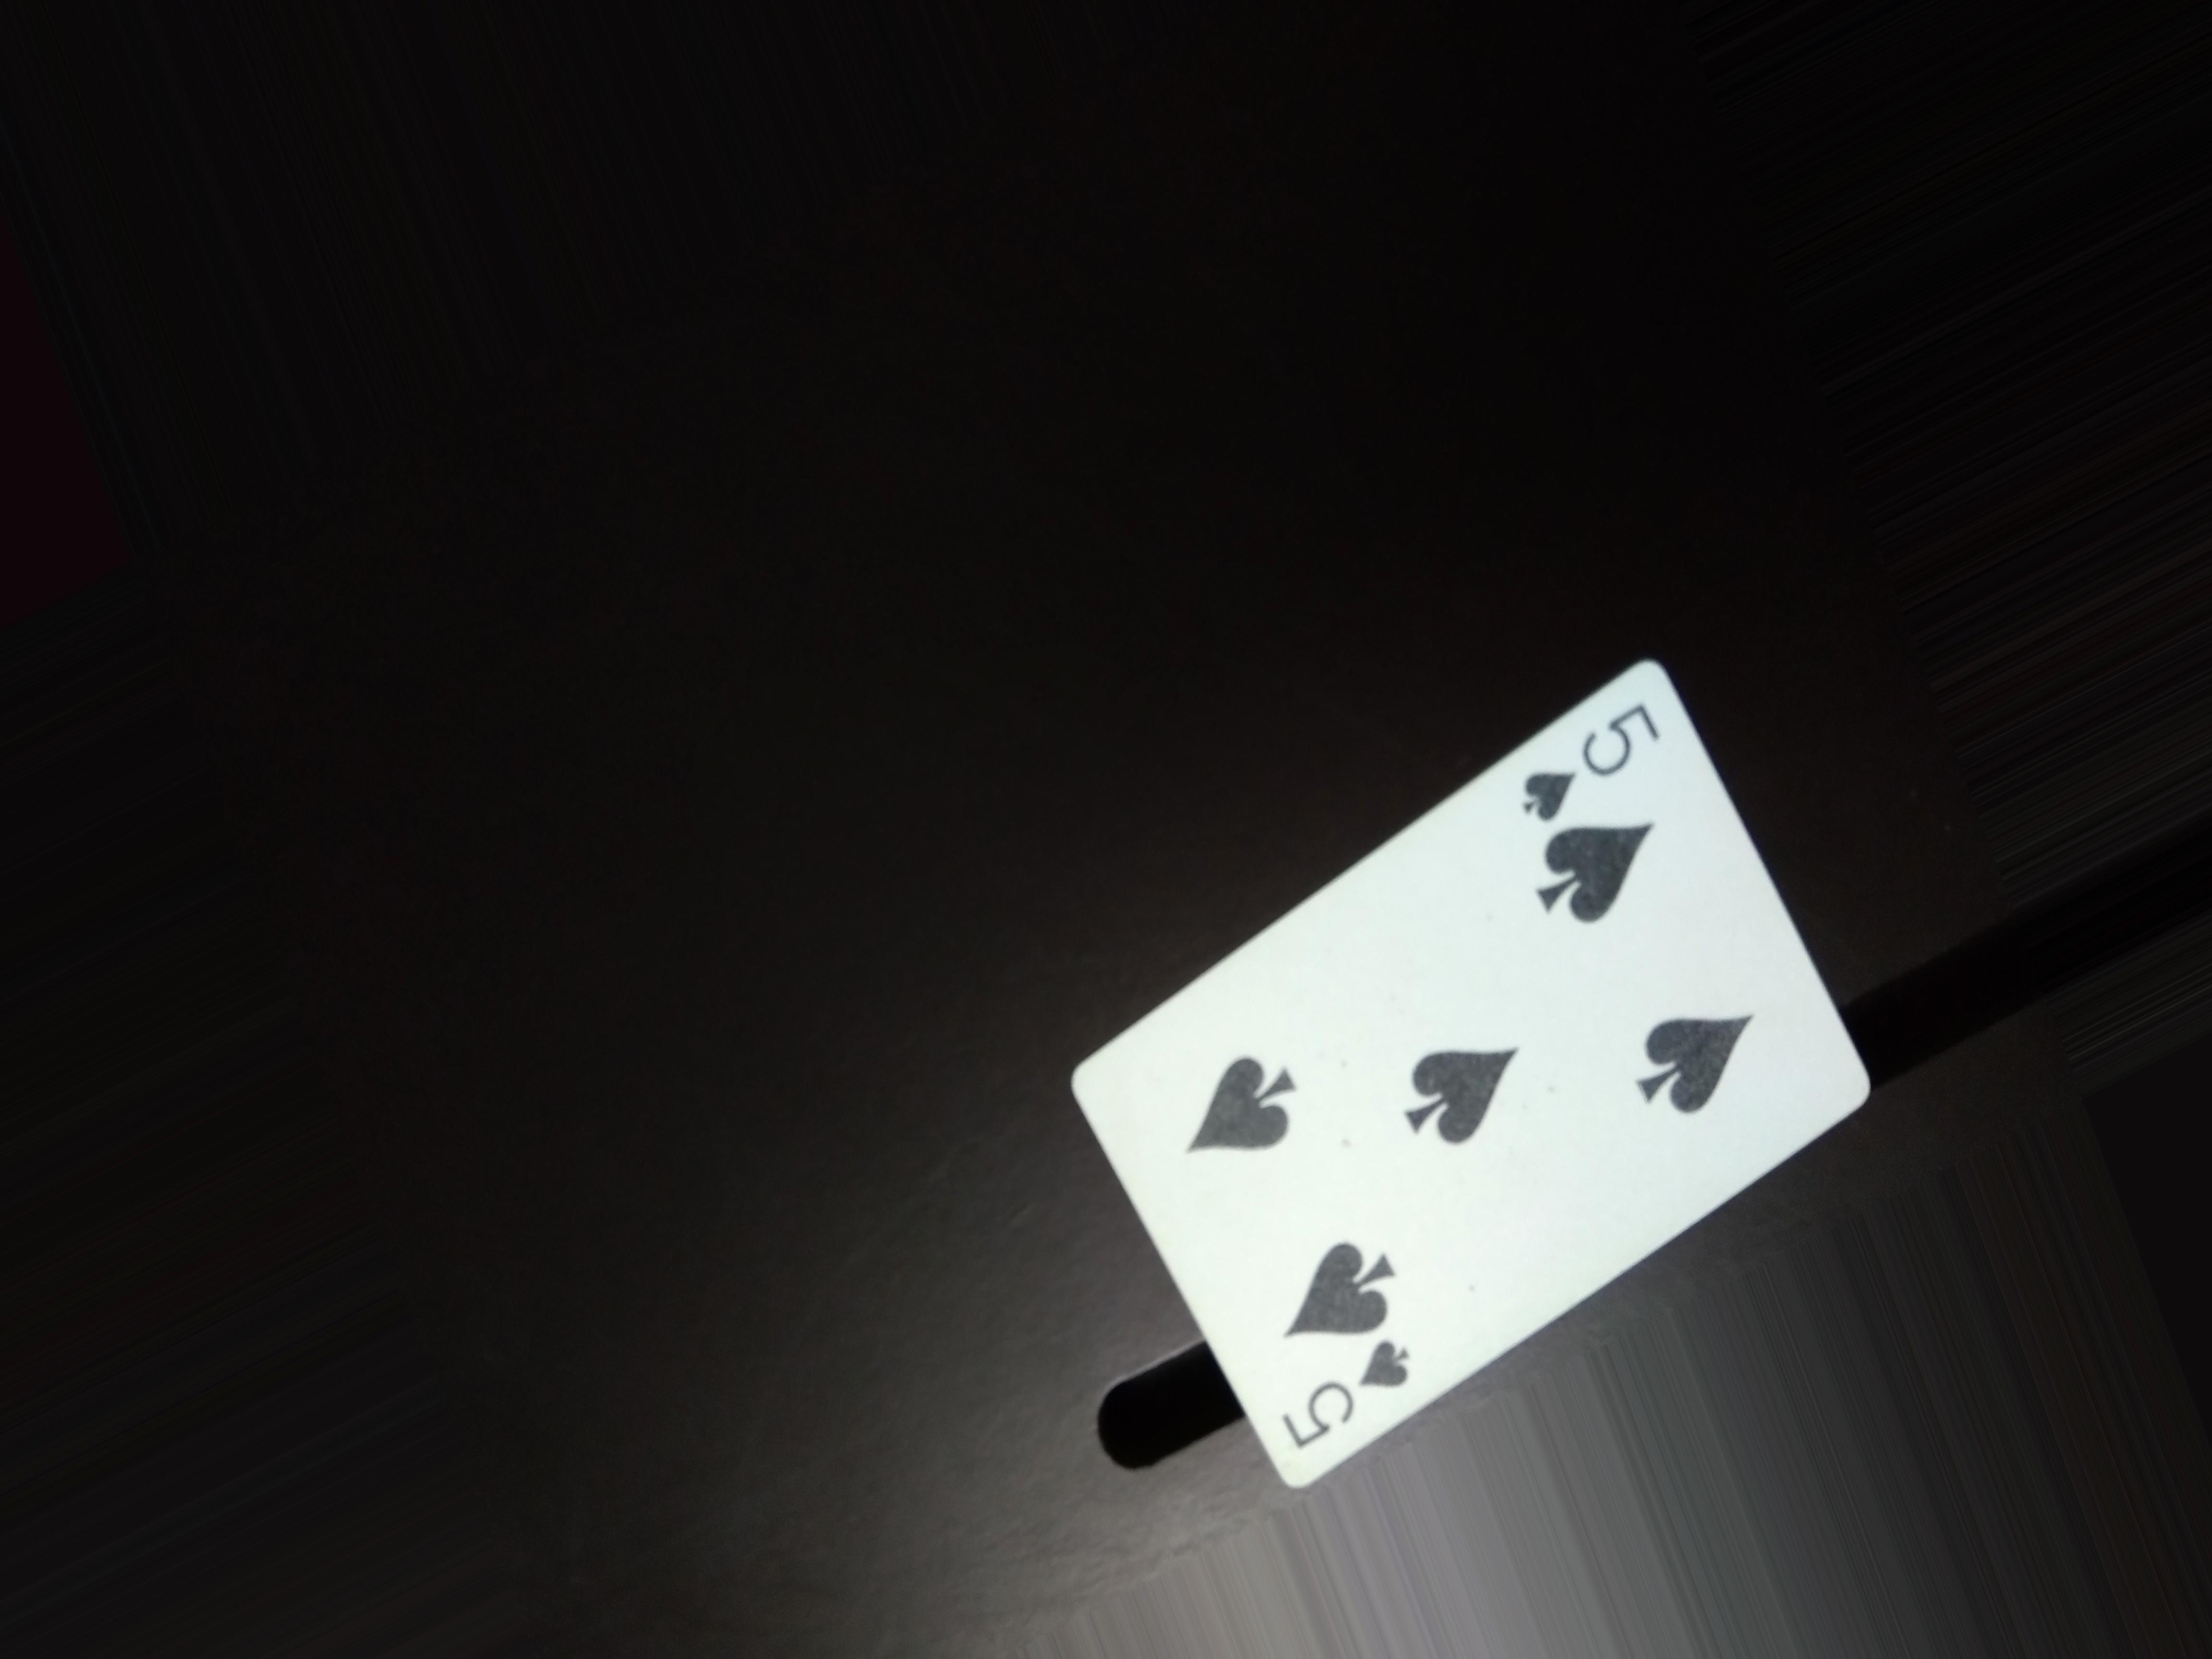5S: (1275, 1338, 1426, 1459)
